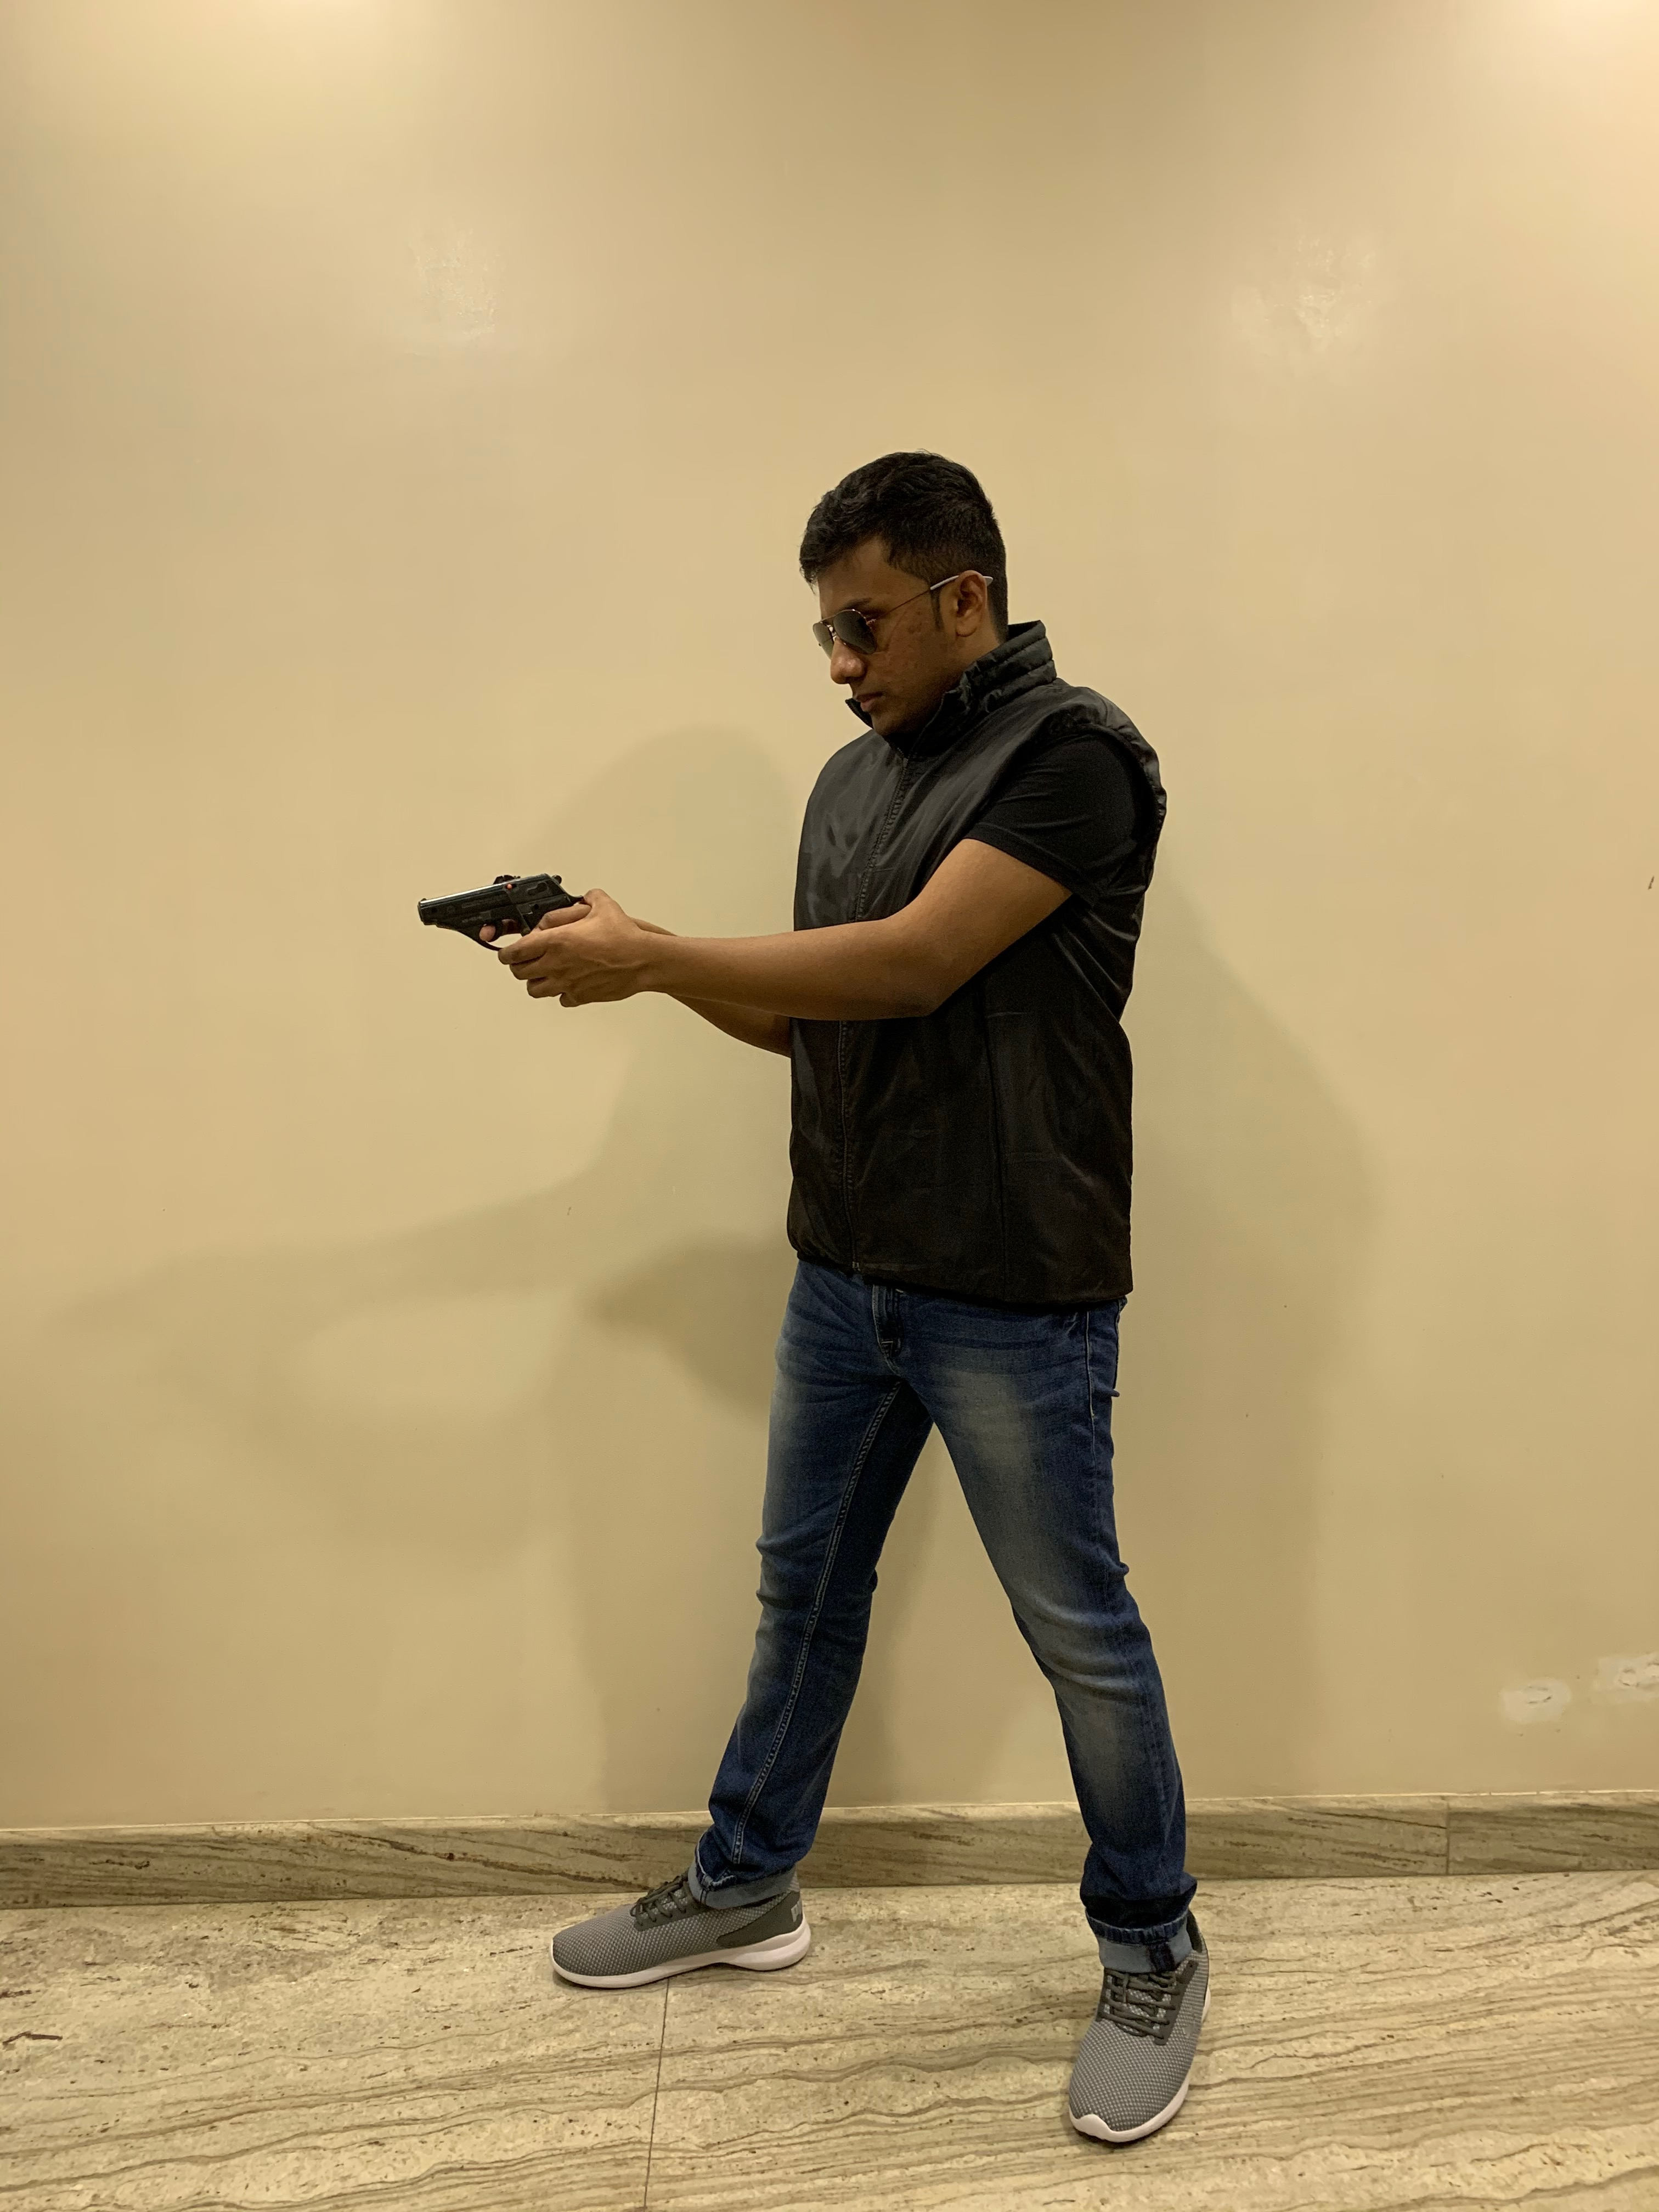gun: (410, 866, 591, 958)
